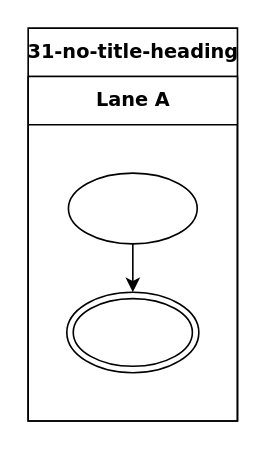
Some shapes in this 266 by 449 pixel diagram are drawn without their labels. The shapes that lost their labels are listed below. From the top down, each one's box as (x1, y1, x2, y2) in pixels, then its label:
(67, 171, 197, 244): Enter
(65, 291, 199, 373): Done
